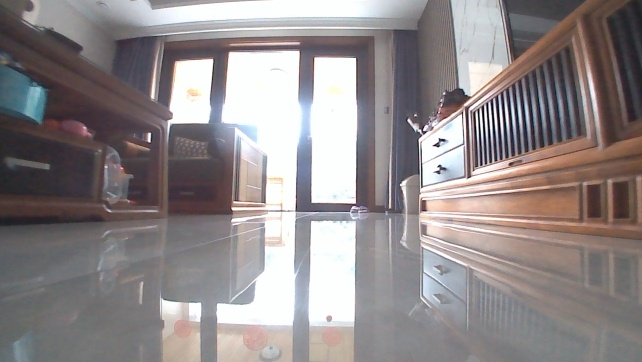TV_stand1: (415, 0, 641, 242)
sofa: (119, 117, 269, 216)
tea_table1: (0, 6, 181, 221)
